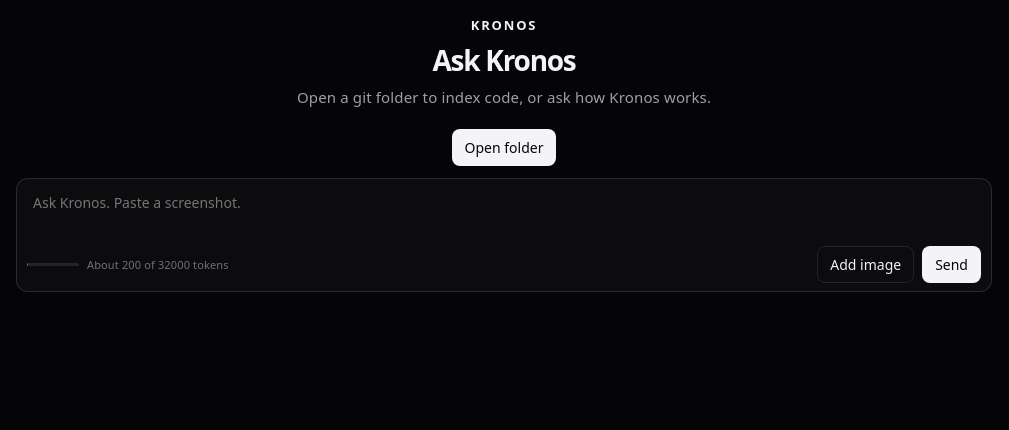
Test case: ChatPage › transitions a tool card from running to ok
The image size is (1009, 430).
Later steps or results of the test are not shown.
Type "Read the file" into the text box named "Ask Kronos".
click(504, 214); type("Read the file")  # box [27, 189, 981, 238]
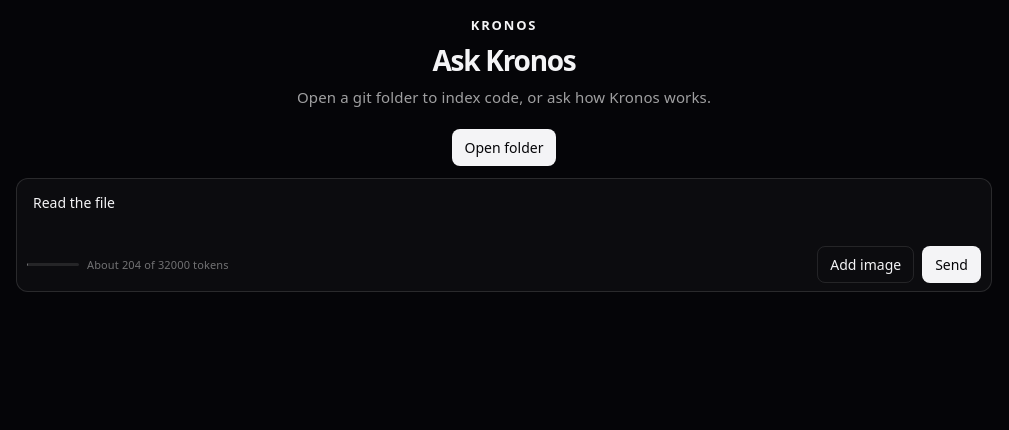
Click the button "Send".
click(952, 264)  # box [922, 246, 981, 283]
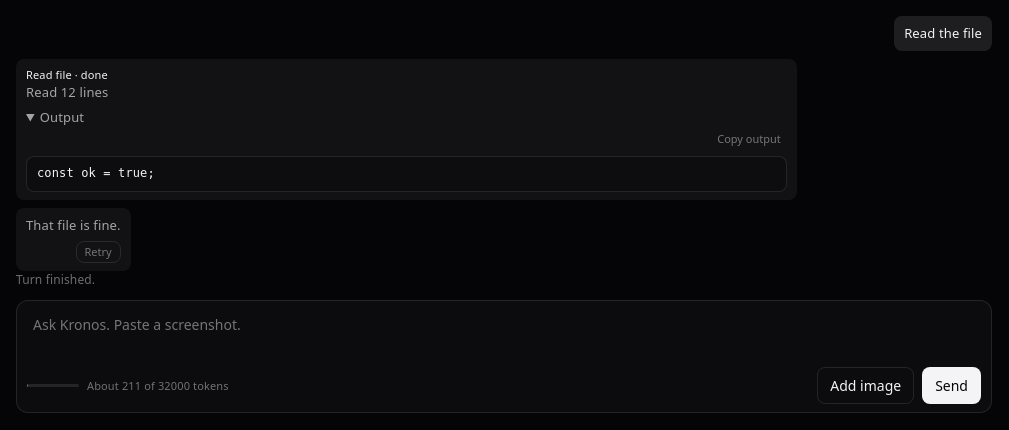
Expected: the text "Read file · running." is shown, [16, 271, 95, 288]
Expected: the text "Read file · done" is shown, [26, 67, 108, 82]
Expected: the text "Read 12 lines" is shown, [26, 83, 108, 101]
